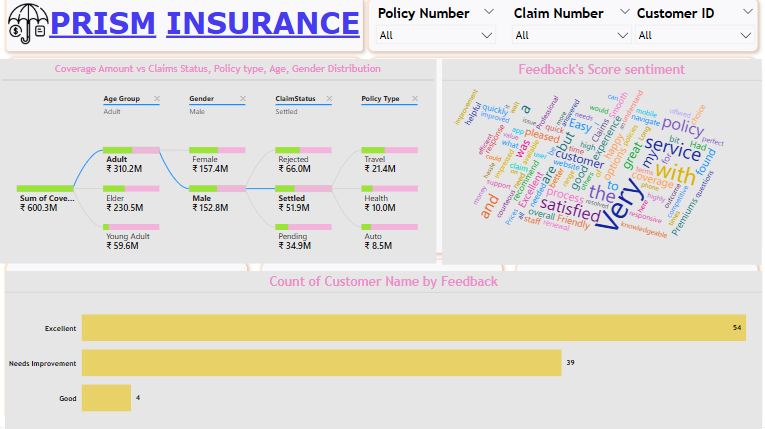

Layout of this report page (visuals, bound fields, positions):
{"tool":"powerbi","page":{"name":"Feedback Analysis","canvas":[1280,720],"ordinal":2},"visuals":[{"type":"decompositionTreeVisual","title":"Coverage Amount vs Claims Status, Policy type, Age, Gender Distribution","fields":{"ExplainBy":["Data.Age Group","Data.PolicyType","Data.Gender","Data.ClaimStatus"],"Analyze":["Sum(Data.CoverageAmount)"]},"box":[14.1,101.9,722.9,341.3],"z":0,"group":"g1"},{"type":"slicer","fields":{"Values":["Data.PolicyNumber"]},"box":[619.8,6.8,220,80],"z":0},{"type":"slicer","fields":{"Values":["Data.ClaimNumber"]},"box":[847.4,6.5,220,80],"z":1000},{"type":"barChart","title":"Count of Customer Name by Feedback","fields":{"Category":["Feedback_Data.Good/Improvement"],"Y":["CountNonNull(Feedback_Data.Customer Name)"]},"box":[17.9,456.4,1262.1,264.6],"z":1000,"group":"g1"},{"type":"WordCloud1447959067750","title":"Feedback''s Score sentiment","fields":{"Values":["Sum(Feedback_Data.Score sentiment)"],"Category":["Feedback_Data.Feedback"]},"box":[746.3,102.2,532.7,343.2],"z":2000,"group":"g1"},{"type":"slicer","fields":{"Values":["Data.CustomerID"]},"box":[1052.3,6.2,220,80],"z":2000},{"type":"textbox","box":[71.2,6.2,545,80],"z":3000},{"type":"image","box":[11.2,0,77.5,86.2],"z":5000},{"type":"group","id":"g1","title":"Group 1","box":[14.1,101.9,1265.9,619.1],"z":11004}]}

Visuals, with their boxes in screenshot pixels (x1, y1, x2, y2), scaled from the page's 1280x720 canvas onto the 765x429 screenshot:
"Coverage Amount vs Claims Status, Policy type, Age, Gender Distribution" decompositionTreeVisual: 8:61:440:264
slicer - Data.PolicyNumber: 370:4:502:52
slicer - Data.ClaimNumber: 506:4:638:52
"Count of Customer Name by Feedback" barChart: 11:272:764:428
"Feedback''s Score sentiment" WordCloud1447959067750: 446:61:764:265
slicer - Data.CustomerID: 629:4:760:51
textbox: 43:4:368:51
image: 7:0:53:51
"Group 1" group: 8:61:764:428
